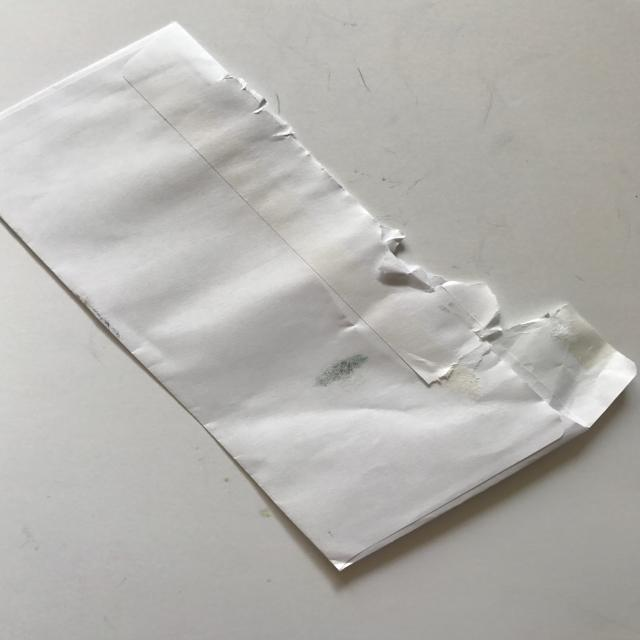paper: (0, 11, 640, 607)
